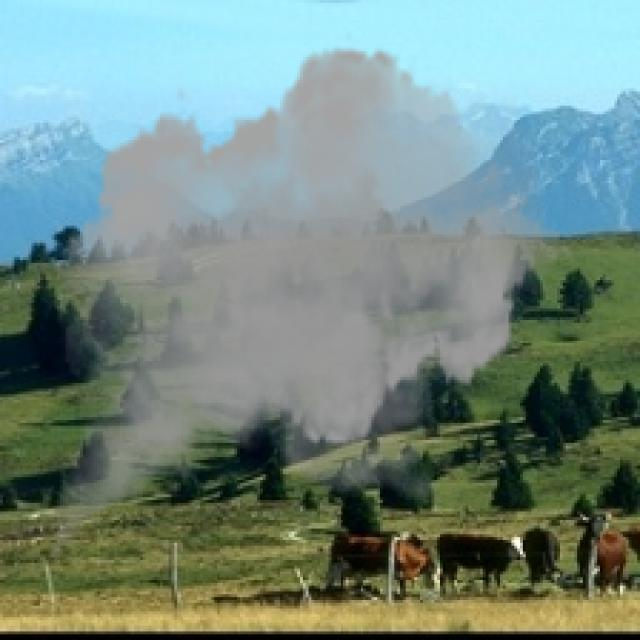Smoke: (34, 31, 574, 588)
